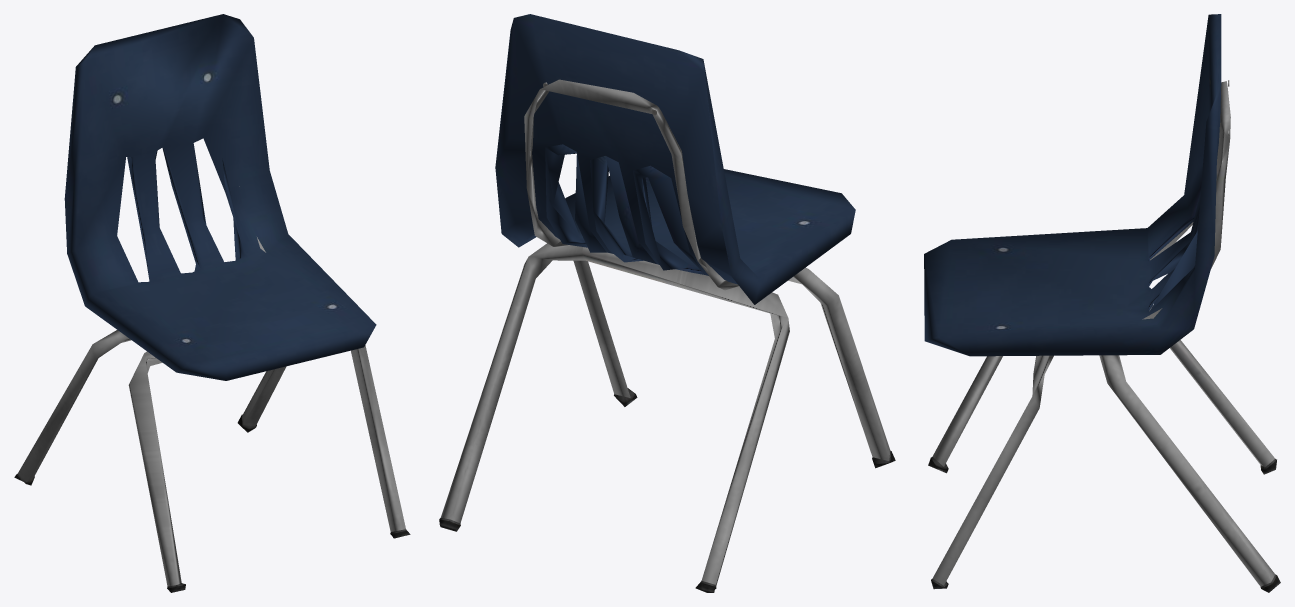
Rendered from chair.glb.
3 views of the same model, side by side, from view 1: azimuth 30°, elevation 25°; view 2: azimuth 150°, elevation 25°; view 3: azimuth 270°, elevation 25° (orthographic). The views are drawn at different scales.
Visible parts, largest first — view 1: SchoolChair_01; view 2: SchoolChair_01; view 3: SchoolChair_01.
Part boxes in pixels (x1=…): SchoolChair_01: x1=14, y1=14, x2=410, y2=592; SchoolChair_01: x1=439, y1=14, x2=895, y2=592; SchoolChair_01: x1=924, y1=14, x2=1280, y2=592.
Size of the model in its own units: 0.5659 by 1 by 0.6692.
Materials: 1 (1 with a texture image).
